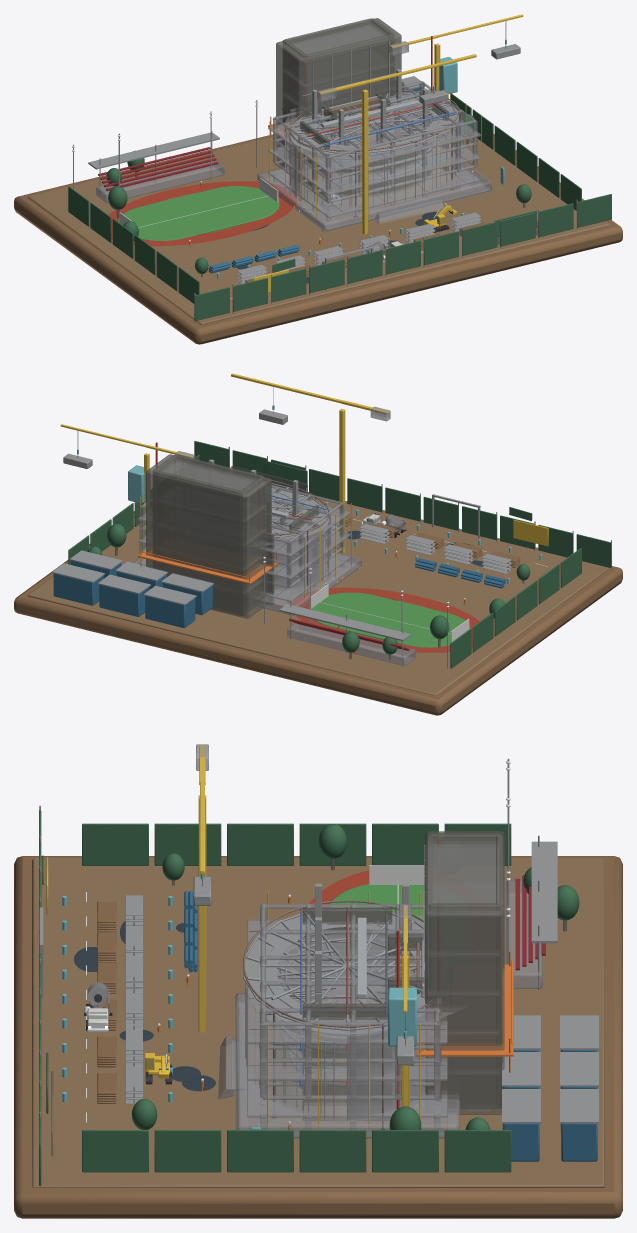
Rendered from stage_tower.glb.
The picture shows the model from 3 angles, top to bottom: view 1: azimuth 30°, elevation 25°; view 2: azimuth 150°, elevation 25°; view 3: azimuth 270°, elevation 25°; orthographic projection. The views are drawn at different scales.
Parts seen in each view (by area): view 1: Site Slab, Wood Base, StageTower, SportsField, GlassLobby, CoreWall_2, TheaterPodium, SLAB_L3, SLAB_L1, AthleticTrack, SLAB_L2, GrandstandBase (+38 smaller); view 2: Site Slab, StageTower, Wood Base, CoreWall_3, SportsField, CoreWall_0, AthleticTrack, RearAuditoriumWall, GrandstandBase, TheaterPodium, StandRoof, CoreSlab_15.0 (+37 smaller); view 3: Site Slab, Wood Base, StageTower, CoreWall_1, SLAB_L3, TheaterPodium, RearAuditoriumWall, RoofRingRear, CoreSlab_15.0, ShearWall_3, SLAB_L1, SLAB_L2 (+45 smaller).
Boxes of the visible parts, <box> form: Site Slab: <box>27,134,609,324</box>; Wood Base: <box>14,134,622,344</box>; StageTower: <box>276,18,401,167</box>; SportsField: <box>117,186,279,240</box>; GlassLobby: <box>298,144,454,204</box>; CoreWall_2: <box>306,34,393,116</box>; TheaterPodium: <box>257,160,491,231</box>; SLAB_L3: <box>268,90,481,172</box>; SLAB_L1: <box>268,164,481,217</box>; AthleticTrack: <box>109,181,296,246</box>; SLAB_L2: <box>268,138,481,195</box>; GrandstandBase: <box>96,159,224,203</box>; Site Slab: <box>27,494,609,695</box>; StageTower: <box>146,454,271,618</box>; Wood Base: <box>14,492,622,715</box>; CoreWall_3: <box>154,470,241,615</box>; SportsField: <box>309,592,470,647</box>; CoreWall_0: <box>240,476,264,615</box>; AthleticTrack: <box>291,587,479,652</box>; RearAuditoriumWall: <box>274,530,322,590</box>; GrandstandBase: <box>287,623,415,666</box>; TheaterPodium: <box>133,552,361,615</box>; StandRoof: <box>279,604,410,641</box>; CoreSlab_15.0: <box>163,461,265,498</box>; Site Slab: <box>32,858,604,1187</box>; Wood Base: <box>14,856,622,1218</box>; StageTower: <box>425,831,504,1114</box>; CoreWall_1: <box>429,903,501,1108</box>; SLAB_L3: <box>247,919,447,1044</box>; TheaterPodium: <box>235,993,459,1138</box>; RearAuditoriumWall: <box>347,1013,429,1120</box>; RoofRingRear: <box>245,909,429,1034</box>; CoreSlab_15.0: <box>427,844,499,917</box>; ShearWall_3: <box>302,1003,391,1120</box>; SLAB_L1: <box>247,1071,447,1117</box>; SLAB_L2: <box>247,979,447,1080</box>.
Bounding box in the file's own units: 58.2 × 22.15 × 42.
